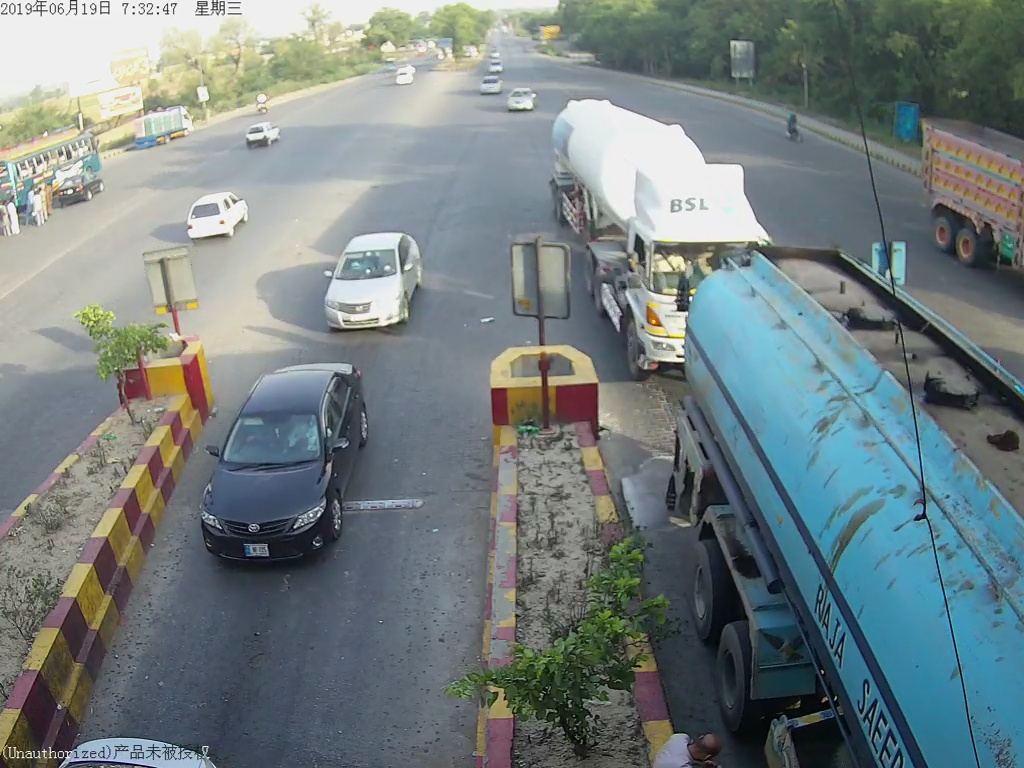Cat-1: (212, 364, 366, 569), (322, 224, 426, 332)
